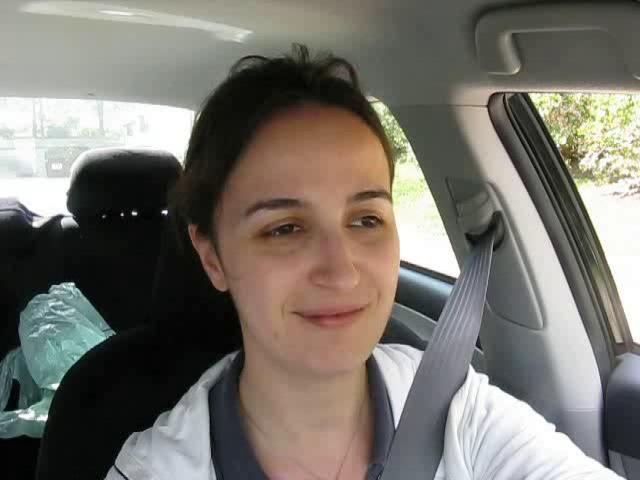eye_open: (252, 216, 308, 245), (345, 207, 390, 236)
face: (235, 175, 414, 382)
